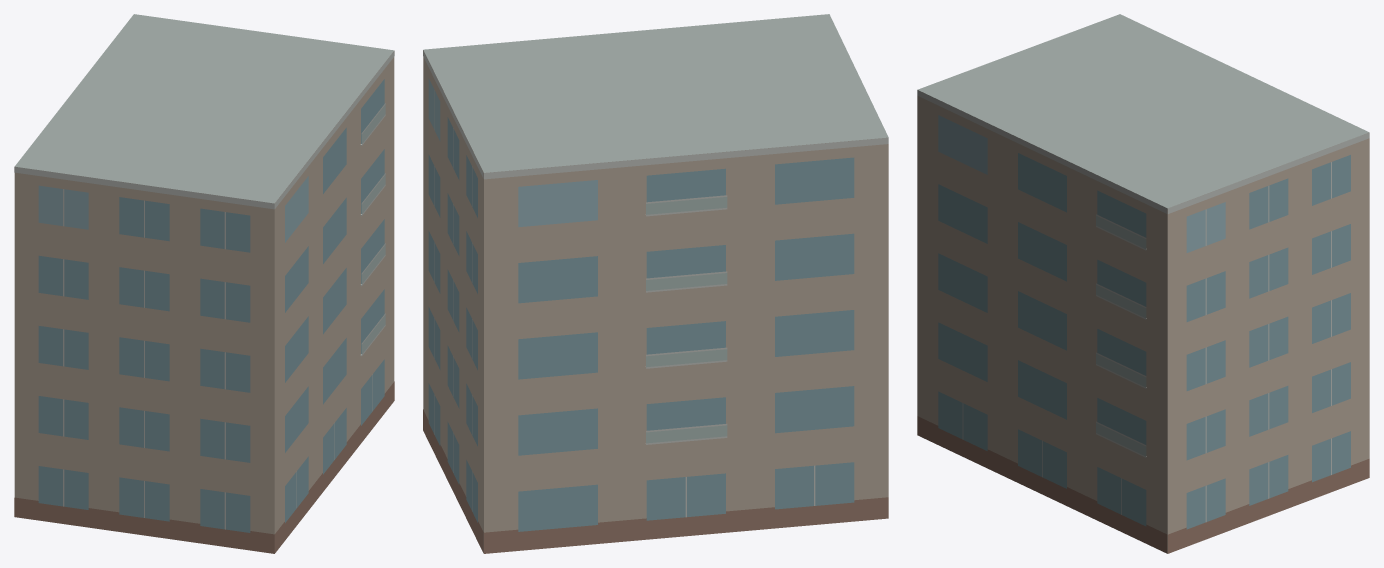
File: survey-upis-32740957.glb
3 renders of one model, left to right at view 1: azimuth 30°, elevation 25°; view 2: azimuth 150°, elevation 25°; view 3: azimuth 270°, elevation 25°, orthographic. The views are drawn at different scales.
Parts seen in each view (by area): view 1: survey-upis-32740957.tmp; view 2: survey-upis-32740957.tmp; view 3: survey-upis-32740957.tmp.
Part boxes in pixels (<box>): survey-upis-32740957.tmp: <box>14,14,394,553</box>; survey-upis-32740957.tmp: <box>423,14,888,553</box>; survey-upis-32740957.tmp: <box>917,14,1369,553</box>.
Size of the model in its own units: 17.39 by 14.4 by 17.09.
